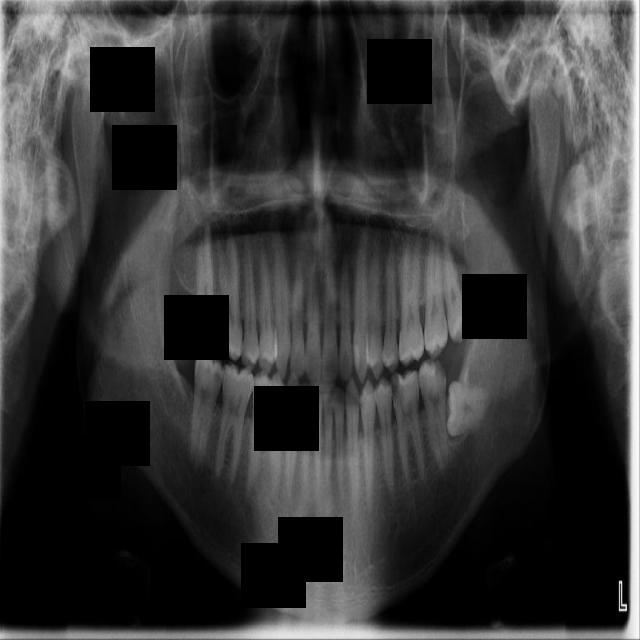52: (208, 373, 225, 397), (432, 358, 447, 384), (389, 373, 402, 401)
73: (592, 593, 596, 602)
BioHorizons Implant: (424, 234, 449, 361)
BioLife Implant: (438, 236, 473, 345)
Biomet 3i Implant: (445, 379, 490, 439)
Blue Sky Bio Implant: (416, 357, 457, 474)
Caries: (188, 229, 217, 349)
Implant: (188, 348, 226, 471)
